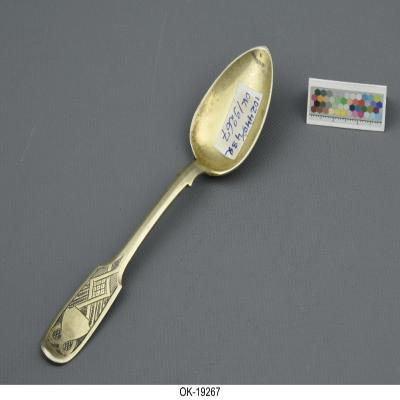dpi: (40, 47, 274, 366)
